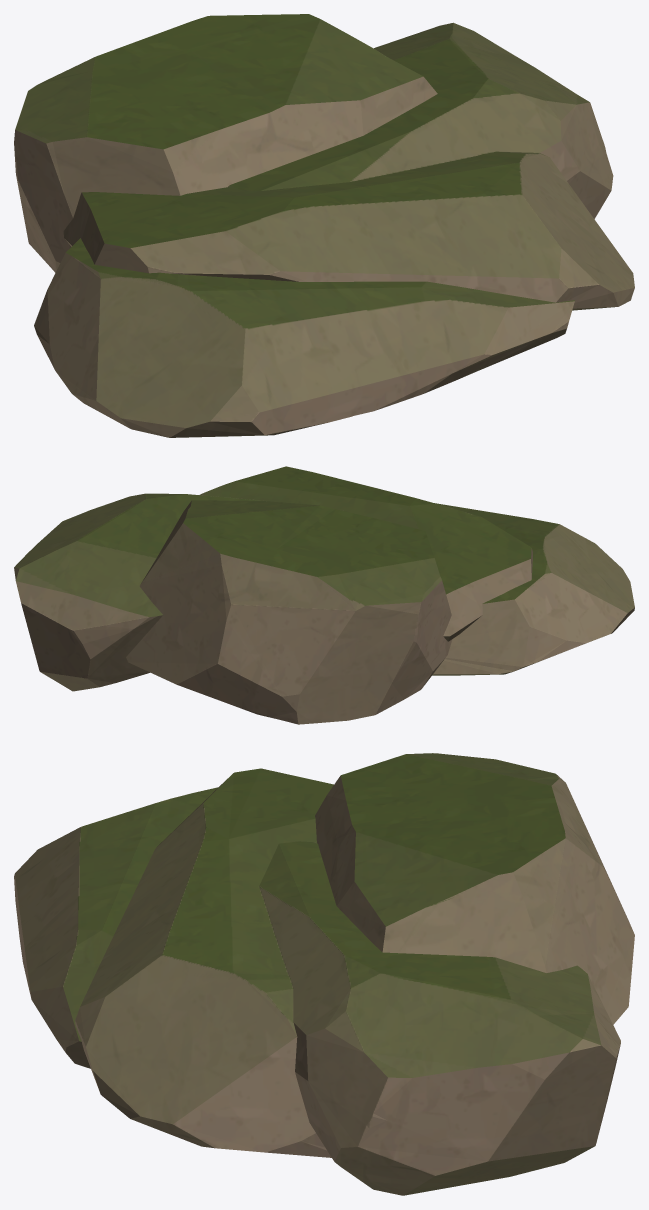
File: SM_Env_Rock_Pile_03.glb
The picture shows the model from 3 angles, top to bottom: view 1: azimuth 30°, elevation 25°; view 2: azimuth 150°, elevation 25°; view 3: azimuth 270°, elevation 25°; orthographic projection. The views are drawn at different scales.
Visible parts, largest first — view 1: SM_Env_Rock_Pile_03; view 2: SM_Env_Rock_Pile_03; view 3: SM_Env_Rock_Pile_03.
Part boxes in pixels (x1,y1,x2,y2): SM_Env_Rock_Pile_03: (14, 14, 634, 437); SM_Env_Rock_Pile_03: (14, 466, 634, 724); SM_Env_Rock_Pile_03: (14, 753, 634, 1195).
Size of the model in its own units: 6.7 by 2.47 by 5.71.
1 material, 1 textured.
